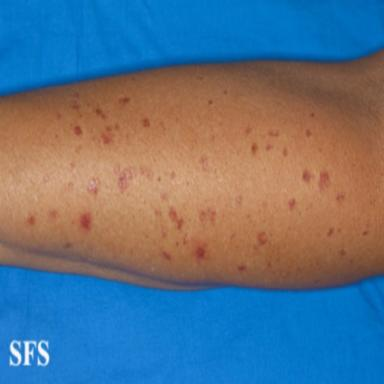Porokeratosis: (114, 164, 136, 192), (169, 207, 183, 229), (199, 208, 216, 224), (101, 124, 113, 144), (318, 171, 329, 189), (194, 244, 205, 261), (88, 177, 98, 195), (80, 214, 91, 229), (199, 156, 209, 171), (95, 106, 106, 119), (257, 232, 267, 245), (302, 169, 311, 183), (73, 125, 83, 136), (26, 214, 35, 225), (162, 251, 171, 261), (336, 192, 344, 203), (119, 97, 130, 105), (268, 129, 279, 137), (289, 198, 296, 210), (235, 195, 242, 207), (71, 100, 80, 109), (327, 227, 335, 236), (49, 209, 57, 218), (142, 118, 150, 127), (265, 144, 273, 151), (338, 249, 346, 255), (238, 265, 246, 271), (306, 128, 311, 137), (283, 147, 288, 156)
